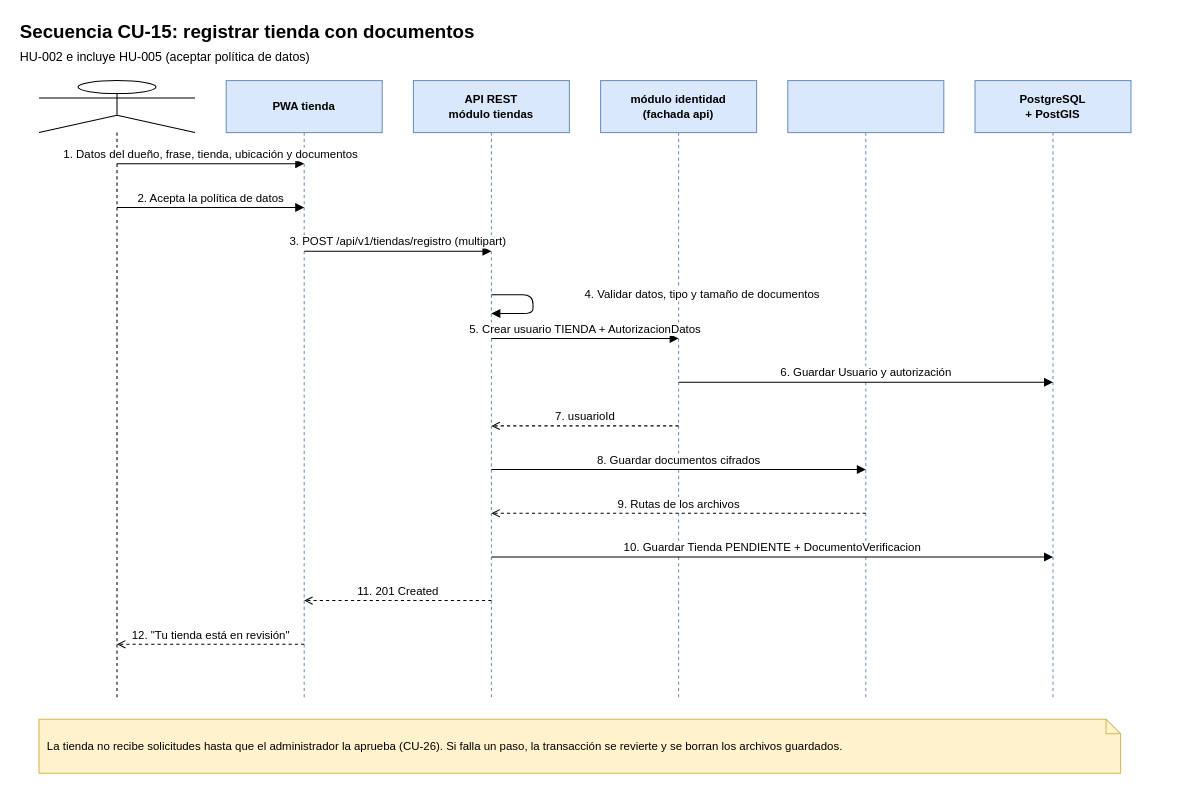
This 1179x791 diagram has some shape labels left out. Here are the shapes that lost their labels. From the top down, the box of each, then its label:
(38, 80, 195, 698): Dueño de la tienda
(787, 80, 944, 698): «puerto» AlmacenArchivos
